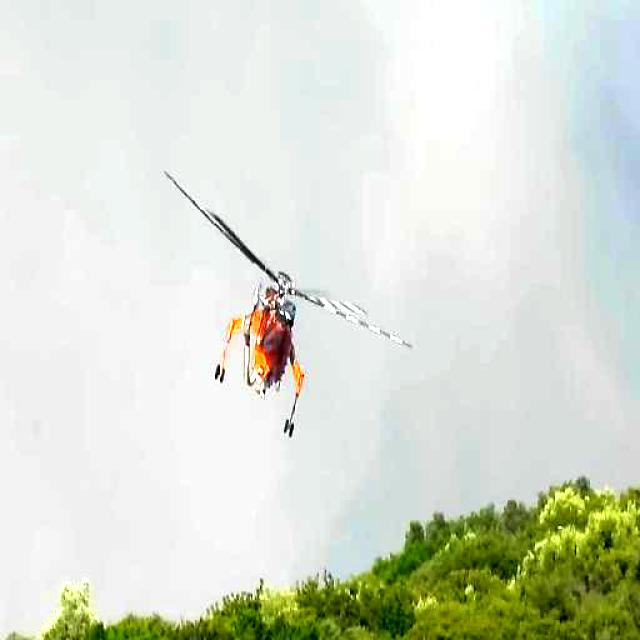drone: (164, 169, 412, 450)
